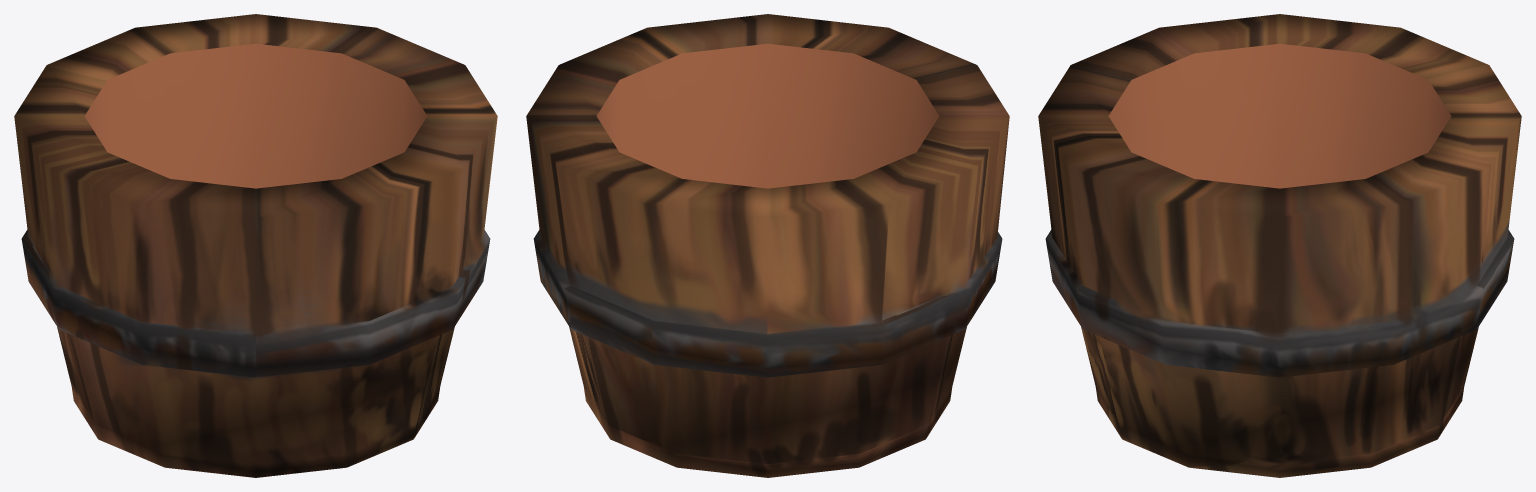
Rendered from SM_Bucket_01.fbx.
The picture shows the model from 3 angles, left to right: view 1: azimuth 30°, elevation 25°; view 2: azimuth 150°, elevation 25°; view 3: azimuth 270°, elevation 25°; orthographic projection.
Parts seen in each view (by area): view 1: Bucket; view 2: Bucket; view 3: Bucket.
Boxes of the visible parts, x1=… form: Bucket: x1=14, y1=14, x2=497, y2=477; Bucket: x1=526, y1=14, x2=1009, y2=477; Bucket: x1=1038, y1=14, x2=1521, y2=477.
Bounding box in the file's own units: 72.98 × 47.44 × 72.98.
